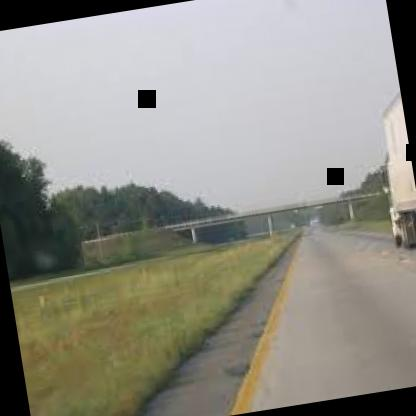car: (360, 92, 416, 276)
